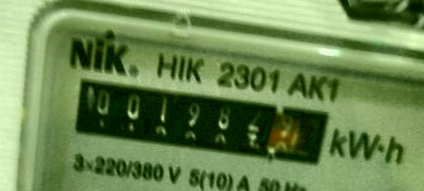0: (121, 88, 140, 118), (91, 83, 109, 113)
1: (153, 90, 167, 120)
2: (242, 100, 262, 130)
8: (212, 99, 230, 128)
9: (273, 108, 295, 137), (181, 96, 198, 126)
screen: (54, 61, 341, 176)
